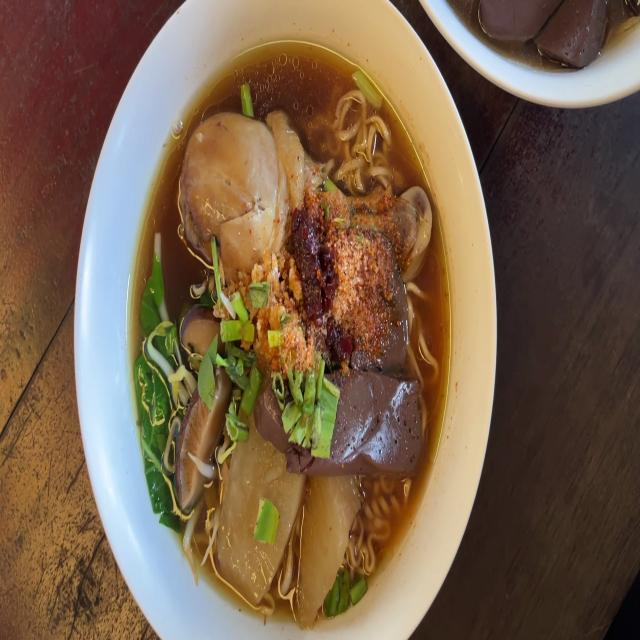boiled_chicken_blood_jelly: (473, 0, 638, 58), (337, 368, 424, 475)
chicken_drumstick: (175, 114, 430, 292)
daikon_radish: (218, 462, 370, 600)
noodle: (132, 47, 448, 635)
